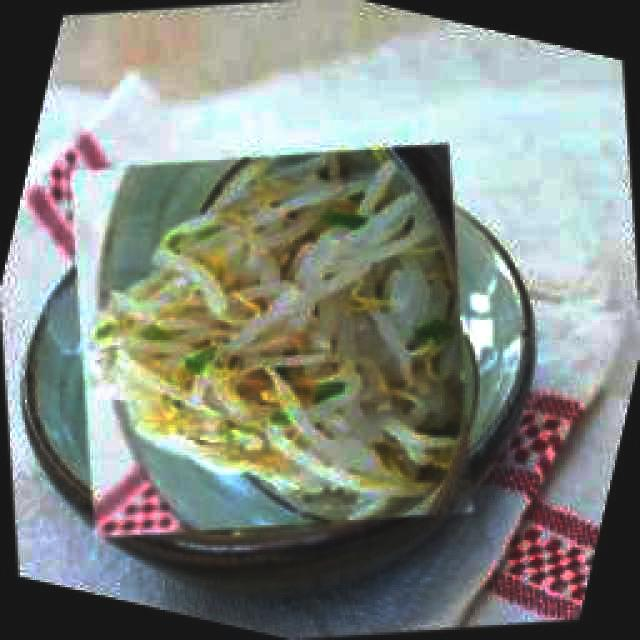mung_bean_sprouts: (89, 162, 462, 506)
